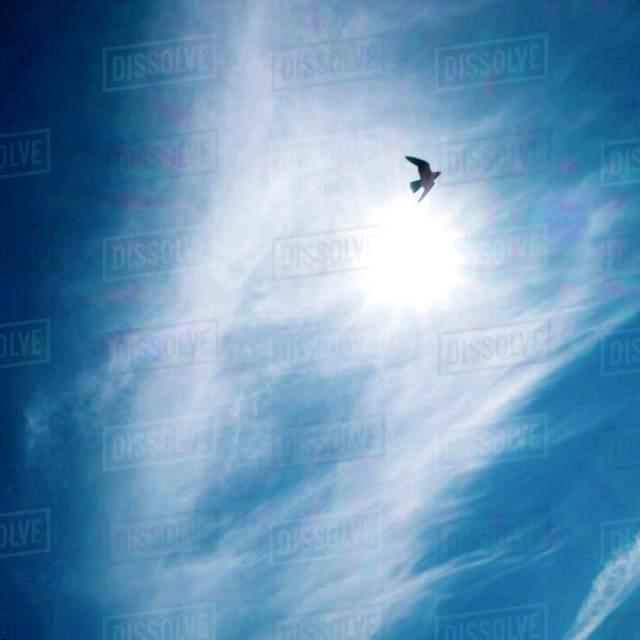bird: (397, 150, 440, 203)
